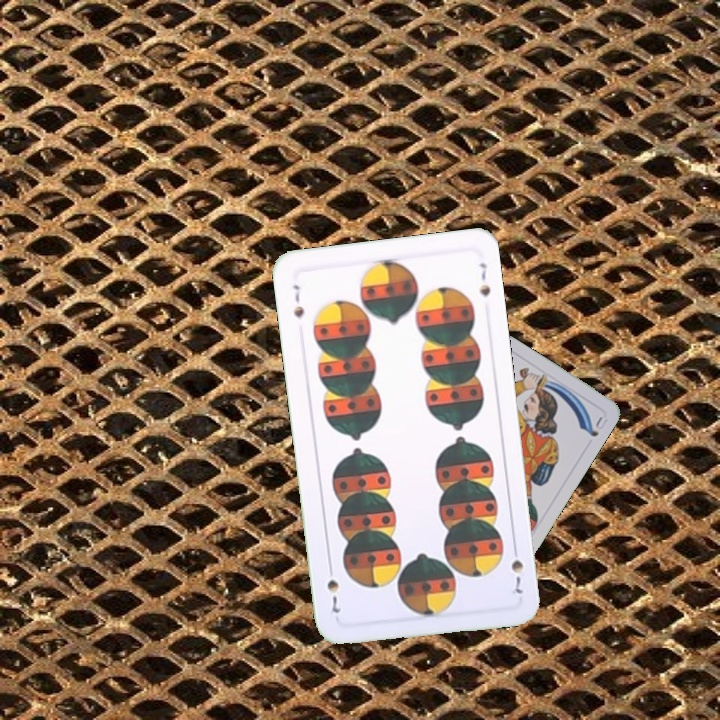S7: (507, 540, 526, 596), (288, 280, 307, 321)
